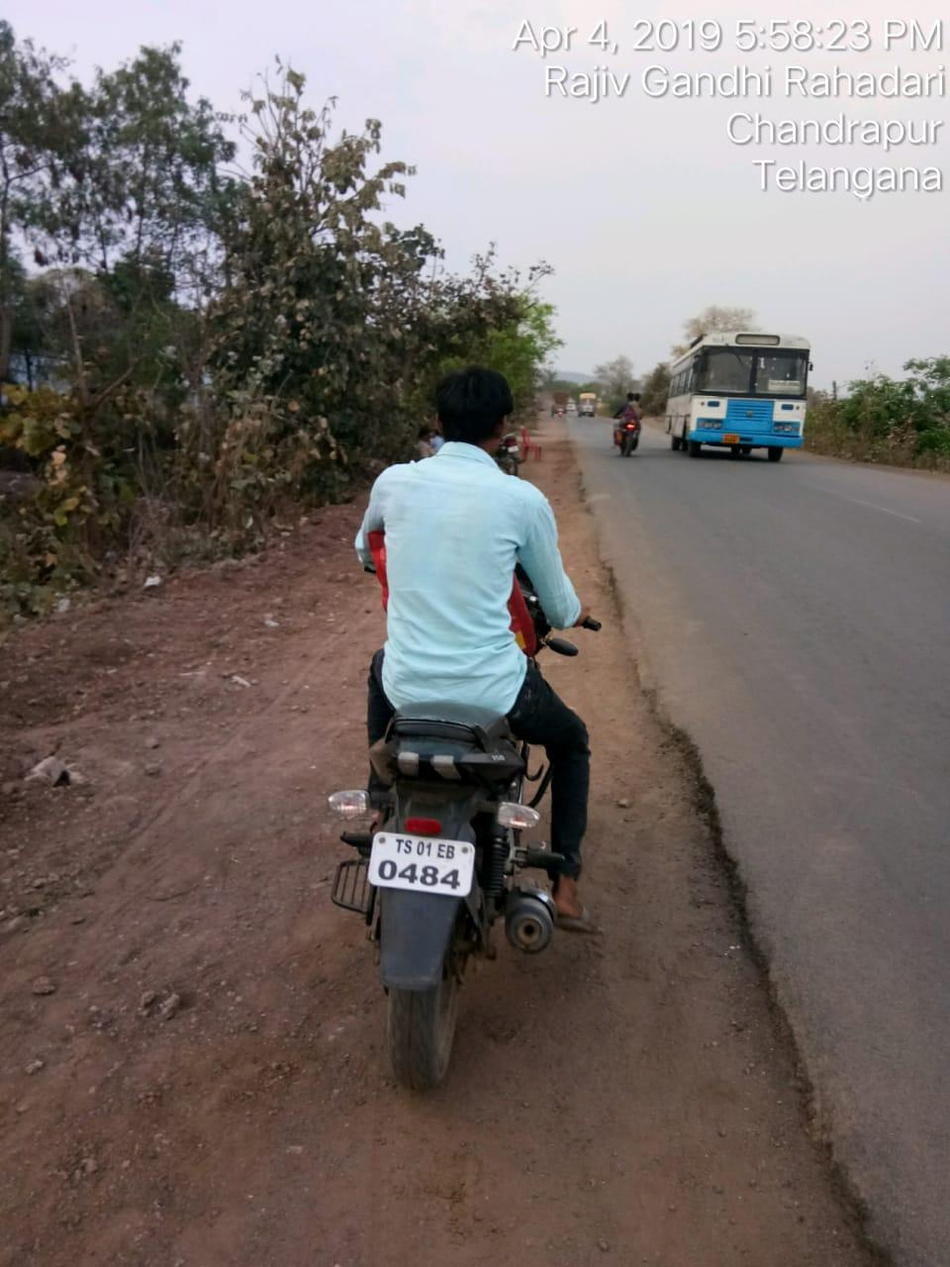plate: (356, 808, 492, 919)
